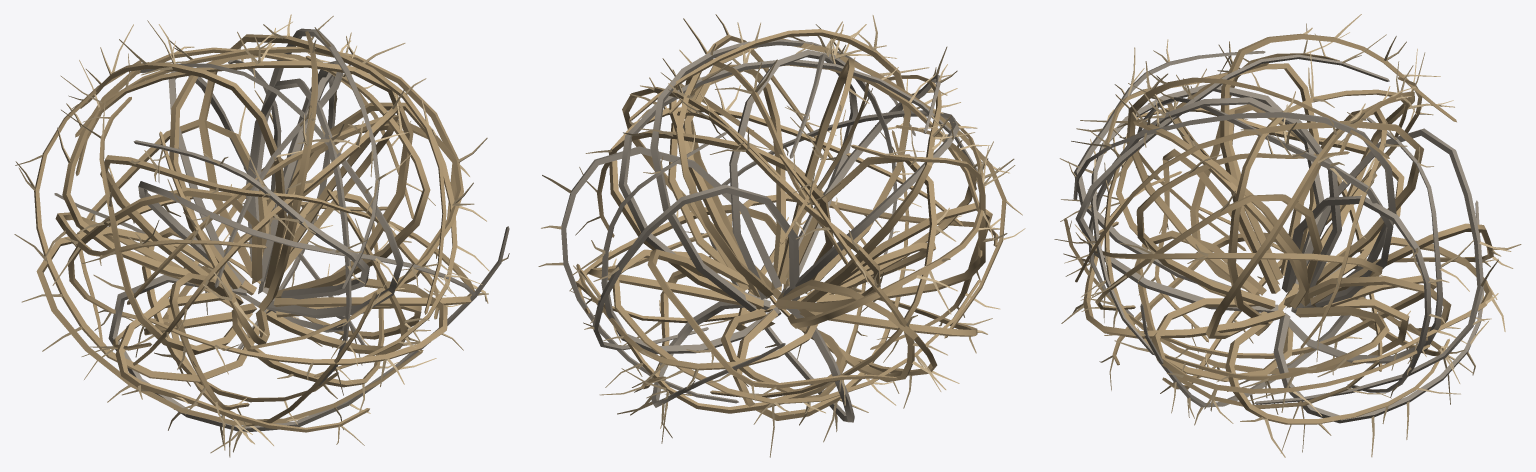
File: tumbleweed_0.glb
The picture shows the model from 3 angles, left to right: view 1: azimuth 30°, elevation 25°; view 2: azimuth 150°, elevation 25°; view 3: azimuth 270°, elevation 25°; orthographic projection. The views are drawn at different scales.
Visible parts, largest first — view 1: tumbleweed; view 2: tumbleweed; view 3: tumbleweed.
Part boxes in pixels (x1,y1,x2,y2): tumbleweed: [14, 14, 509, 457]; tumbleweed: [538, 14, 1025, 457]; tumbleweed: [1054, 14, 1521, 457].
Bounding box in the file's own units: 0.973 × 0.9244 × 1.03.
